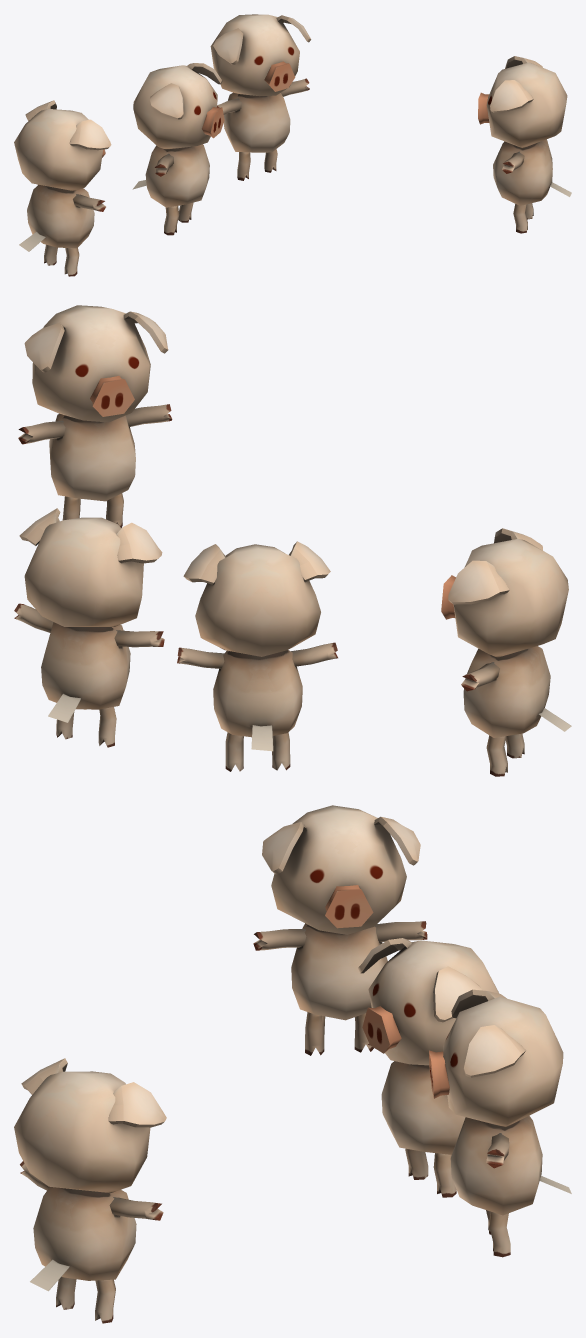
Rendered from water pigs.obj.
The picture shows the model from 3 angles, top to bottom: view 1: azimuth 30°, elevation 25°; view 2: azimuth 150°, elevation 25°; view 3: azimuth 270°, elevation 25°; orthographic projection. The views are drawn at different scales.
Visible parts, largest first — view 1: pCube170, pCube168, pCube169, pCube167; view 2: pCube169, pCube168, pCube167, pCube170; view 3: pCube167, pCube170, pCube168, pCube169.
Boxes of the visible parts, x1,y1,x2,y2 form: pCube170: [14, 100, 111, 276]; pCube168: [210, 14, 311, 180]; pCube169: [132, 63, 224, 235]; pCube167: [478, 56, 571, 233]; pCube169: [177, 541, 337, 771]; pCube168: [14, 508, 164, 747]; pCube167: [18, 305, 172, 527]; pCube170: [441, 528, 571, 776]; pCube167: [14, 1058, 166, 1323]; pCube170: [253, 805, 427, 1055]; pCube168: [429, 989, 571, 1257]; pCube169: [358, 938, 498, 1197].
Size of the model in its own units: 5.58 by 2.15 by 3.84.
Materials: 1 (1 with a texture image).
